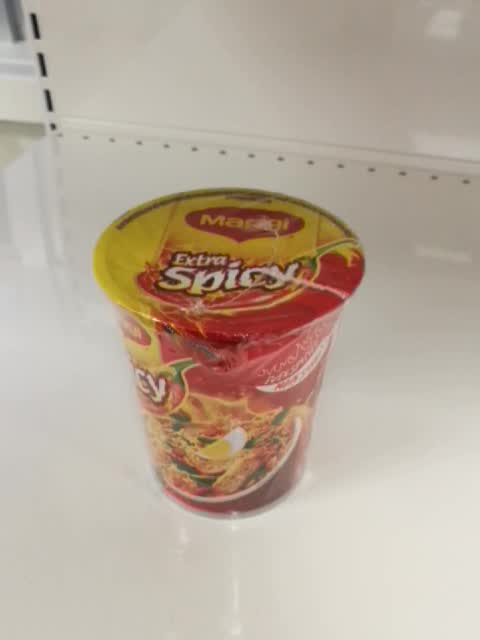maggi: (91, 186, 366, 523)
